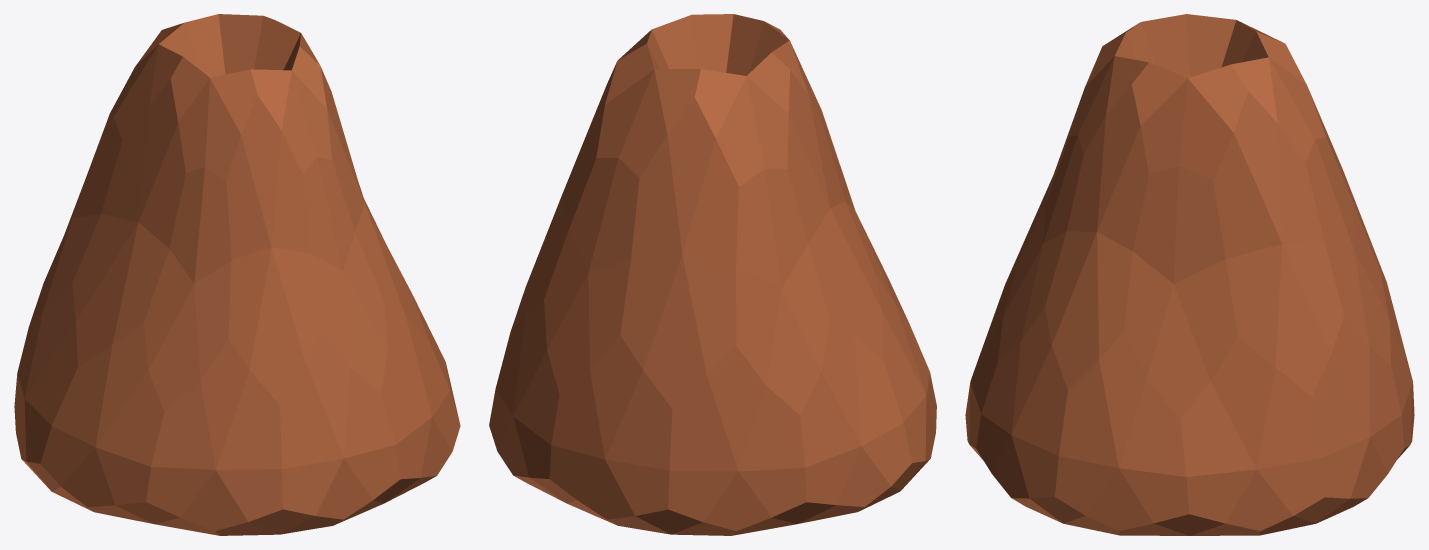
The model's file is Vulcano Small 1.fbx.
3 renders of one model, left to right at view 1: azimuth 30°, elevation 25°; view 2: azimuth 150°, elevation 25°; view 3: azimuth 270°, elevation 25°, orthographic.
Visible parts, largest first — view 1: Icosphere; view 2: Icosphere; view 3: Icosphere.
Part boxes in pixels (x1=…): Icosphere: x1=14, y1=14, x2=460, y2=535; Icosphere: x1=489, y1=14, x2=936, y2=535; Icosphere: x1=965, y1=14, x2=1414, y2=535.
Bounding box in the file's own units: 266 × 267 × 264.
